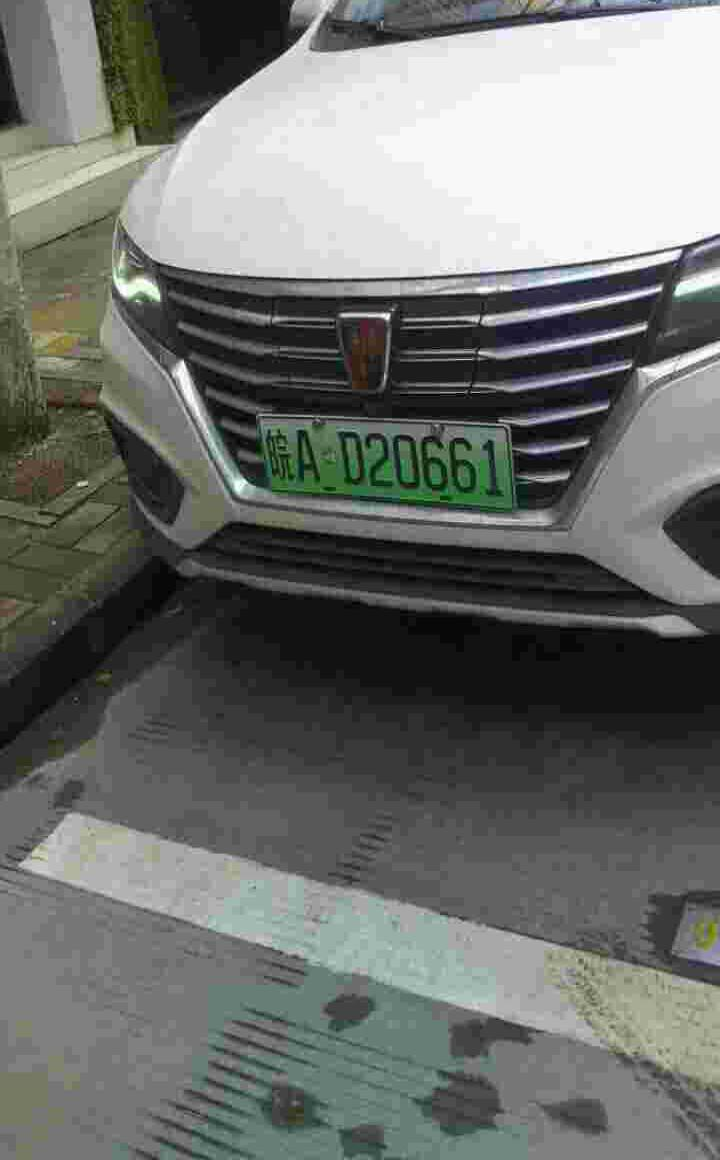car: (251, 415, 517, 499)
